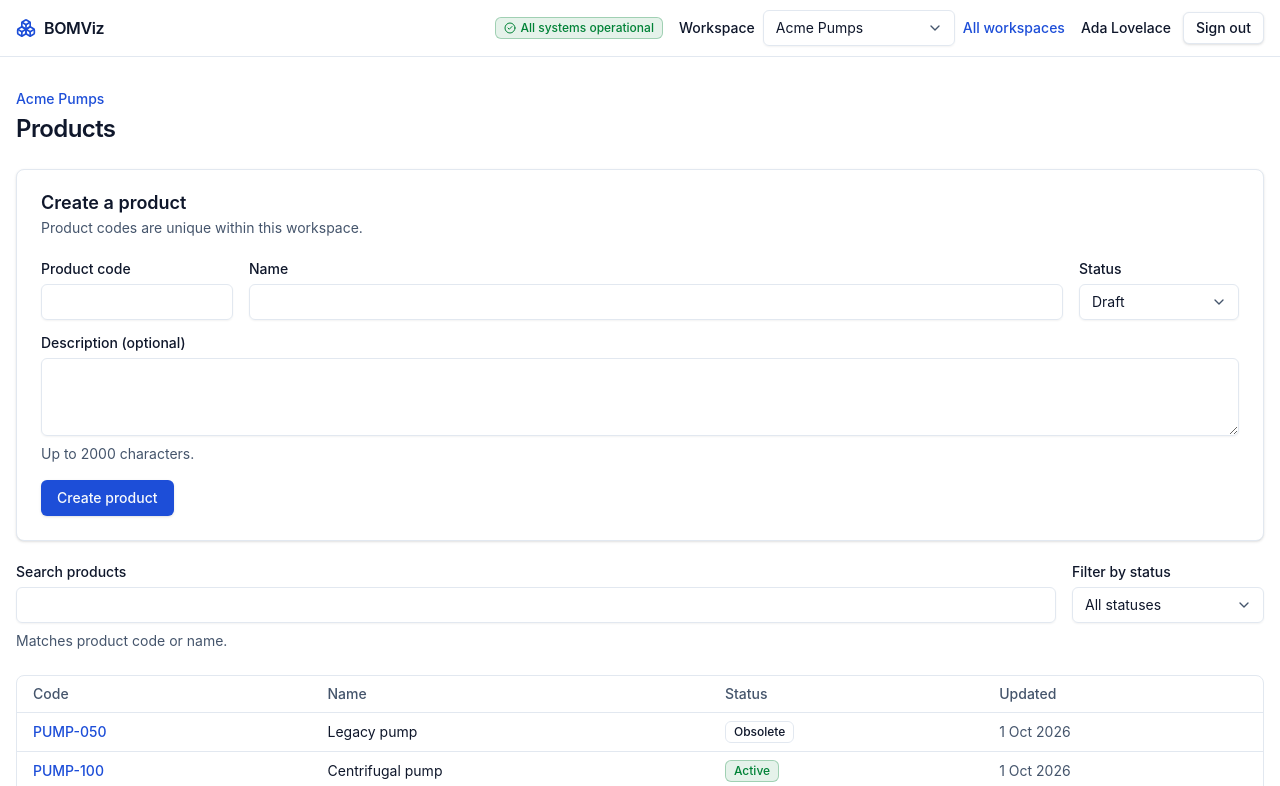
ProductsPage create › shows a permission message when the server answers 403
Type "NEW-1" into the field labelled "Product code". click: (137, 302)
box: x1=41 y1=284 x2=233 y2=320
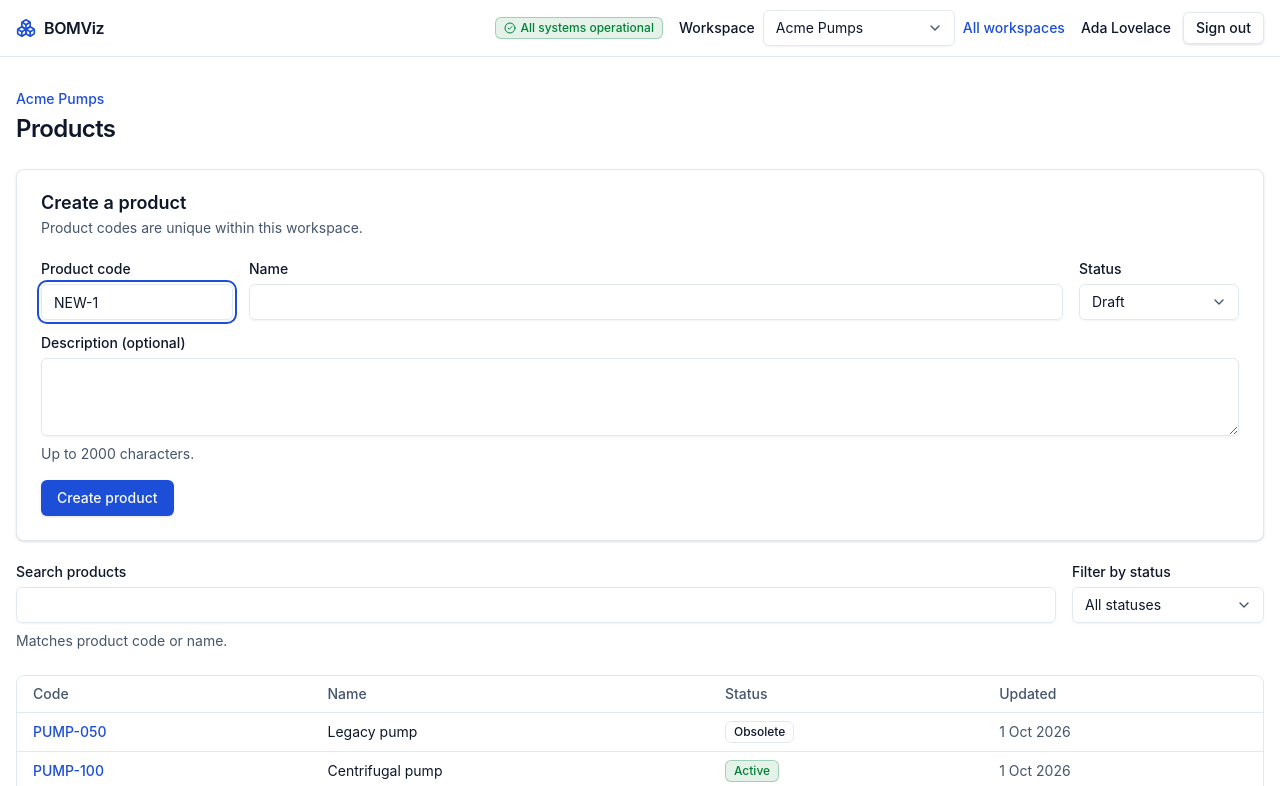
Type "New thing" into the field labelled "Name". click: (656, 302)
box: x1=249 y1=284 x2=1063 y2=320
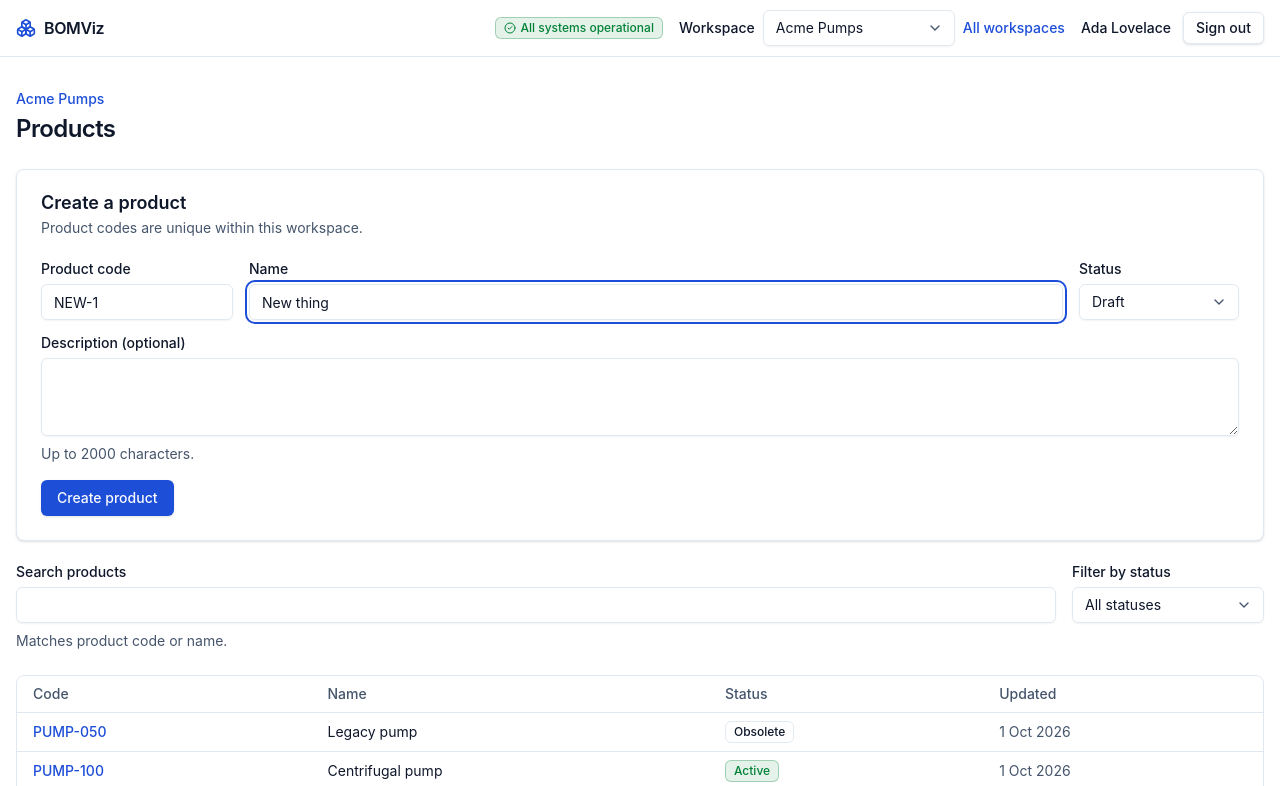
Click the button "Create product". click: (107, 498)
box: x1=41 y1=480 x2=174 y2=516
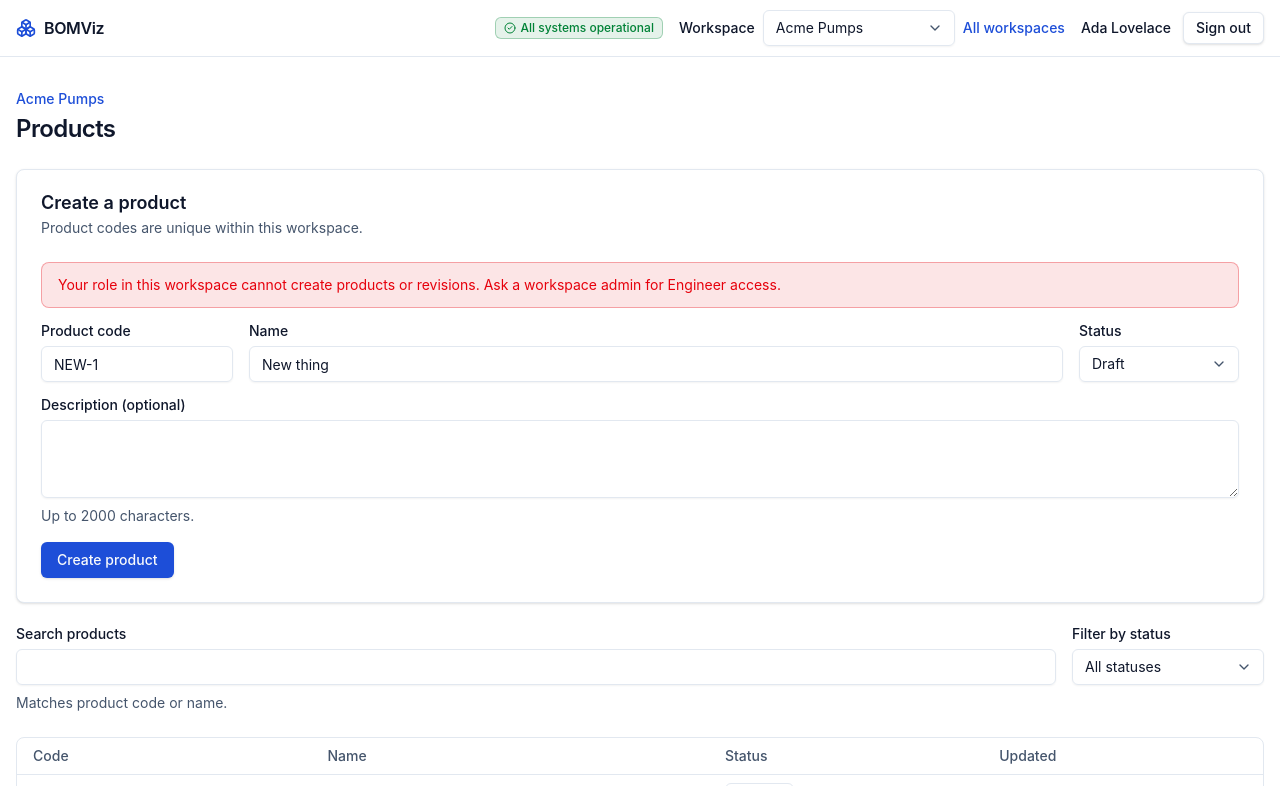
Now the 2nd message shows "Your role in this workspace cannot create products or revisions.", box x1=58 y1=276 x2=781 y2=293
